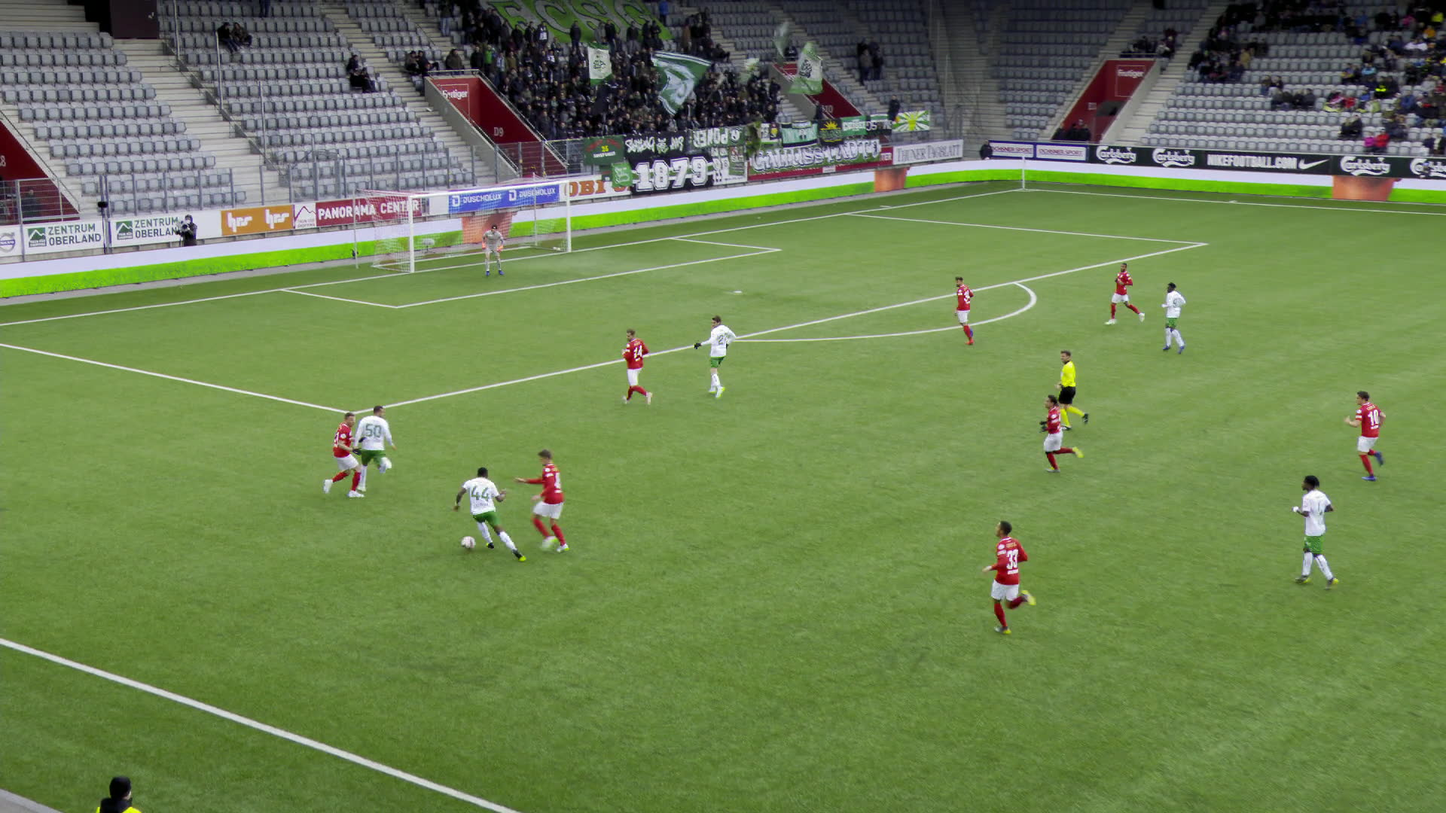ball: (463, 534, 481, 553)
player: (984, 514, 1045, 633), (456, 464, 526, 565), (1287, 470, 1340, 588), (523, 445, 575, 555), (1037, 388, 1092, 474), (1343, 387, 1391, 480), (350, 403, 398, 488), (693, 312, 736, 400), (322, 409, 362, 498), (618, 324, 654, 407), (1109, 257, 1144, 325), (1155, 279, 1185, 353), (947, 273, 975, 344), (479, 219, 505, 276)
referee: (1054, 346, 1095, 427)
